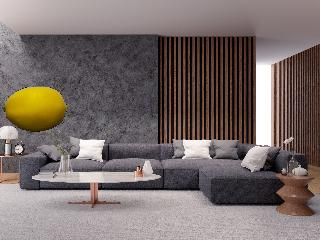lemon: (1, 82, 70, 136)
